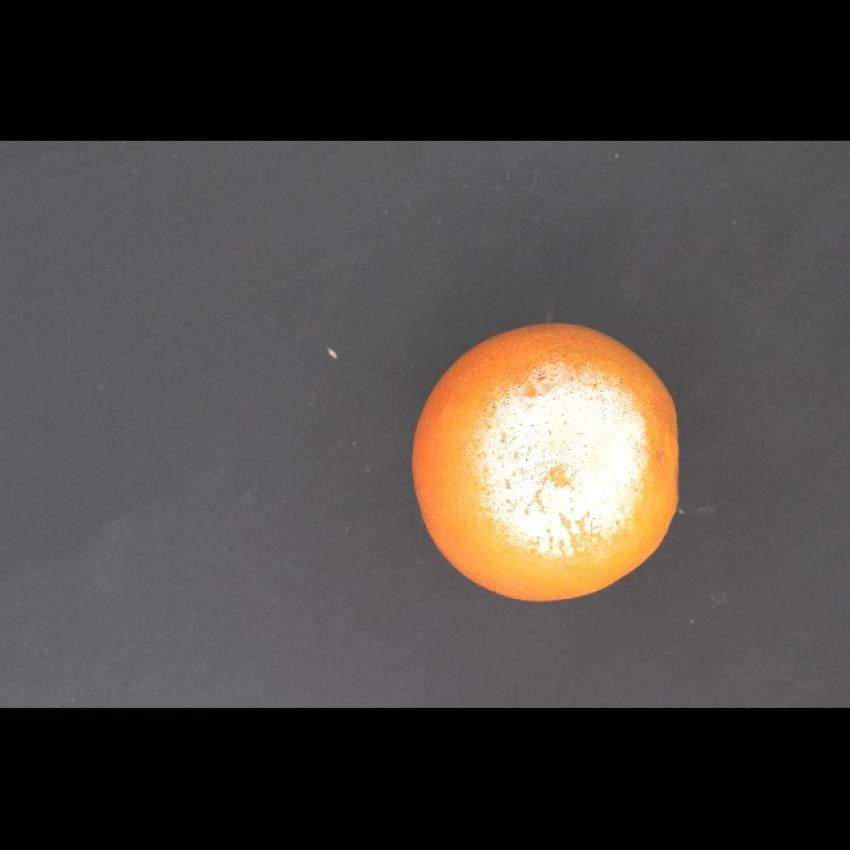Mal estado: (406, 314, 687, 608)
